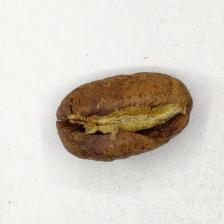NG: (75, 88, 187, 149)
